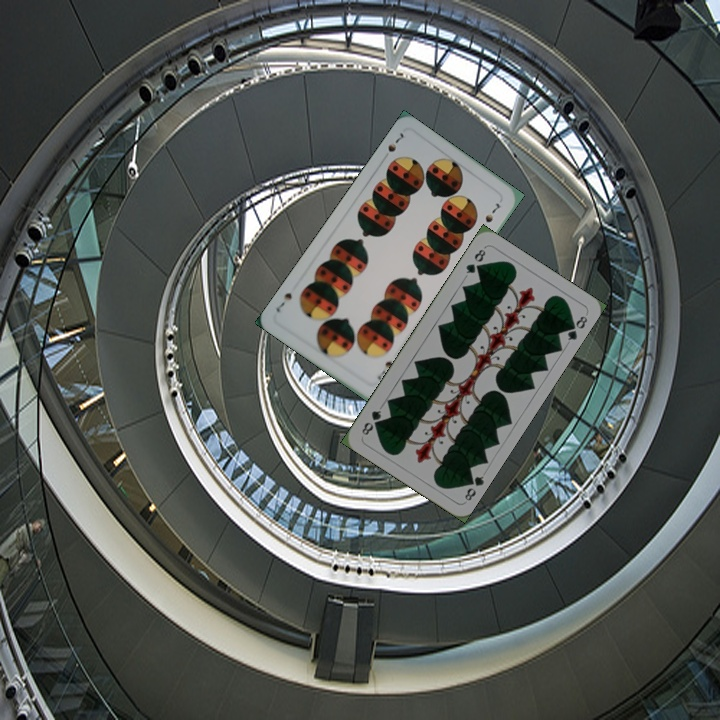G8: (460, 471, 487, 503), (462, 245, 488, 276)
S7: (378, 128, 406, 163), (373, 357, 395, 383)
